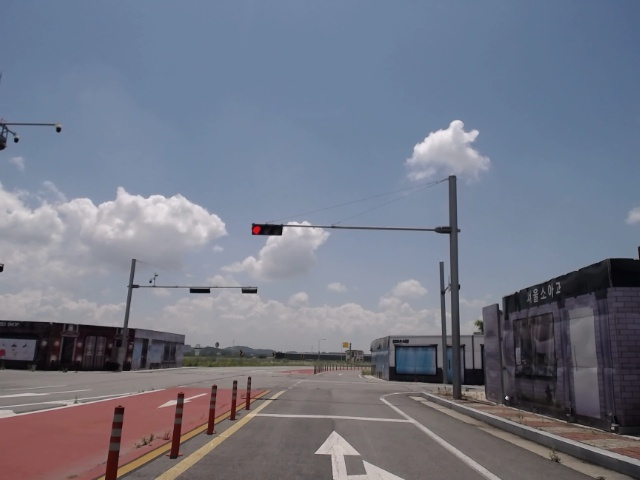red_3: (247, 222, 285, 237)
